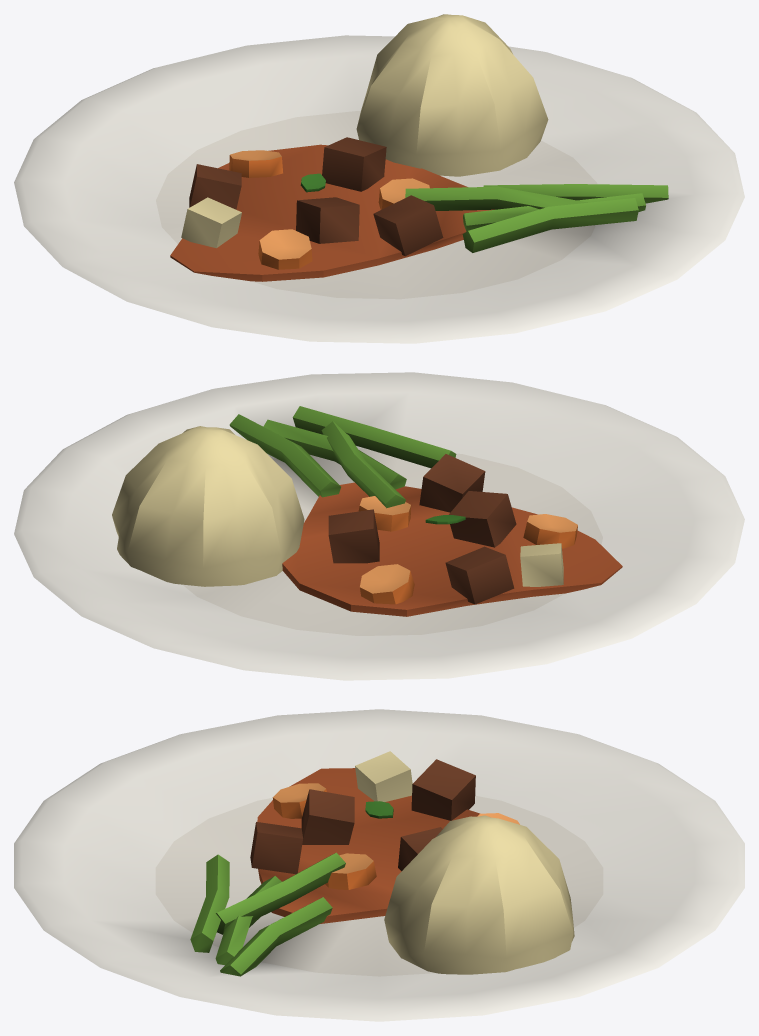
The model's file is mealPlate.glb.
3 renders of one model, top to bottom at view 1: azimuth 30°, elevation 25°; view 2: azimuth 150°, elevation 25°; view 3: azimuth 270°, elevation 25°, orthographic.
Visible parts, largest first — view 1: mealPlate; view 2: mealPlate; view 3: mealPlate.
Boxes of the visible parts, x1,y1,x2,y2 form: mealPlate: [14, 14, 744, 343]; mealPlate: [14, 372, 744, 680]; mealPlate: [14, 709, 744, 1021].
Size of the model in its own units: 0.2876 by 0.0608 by 0.2847.
